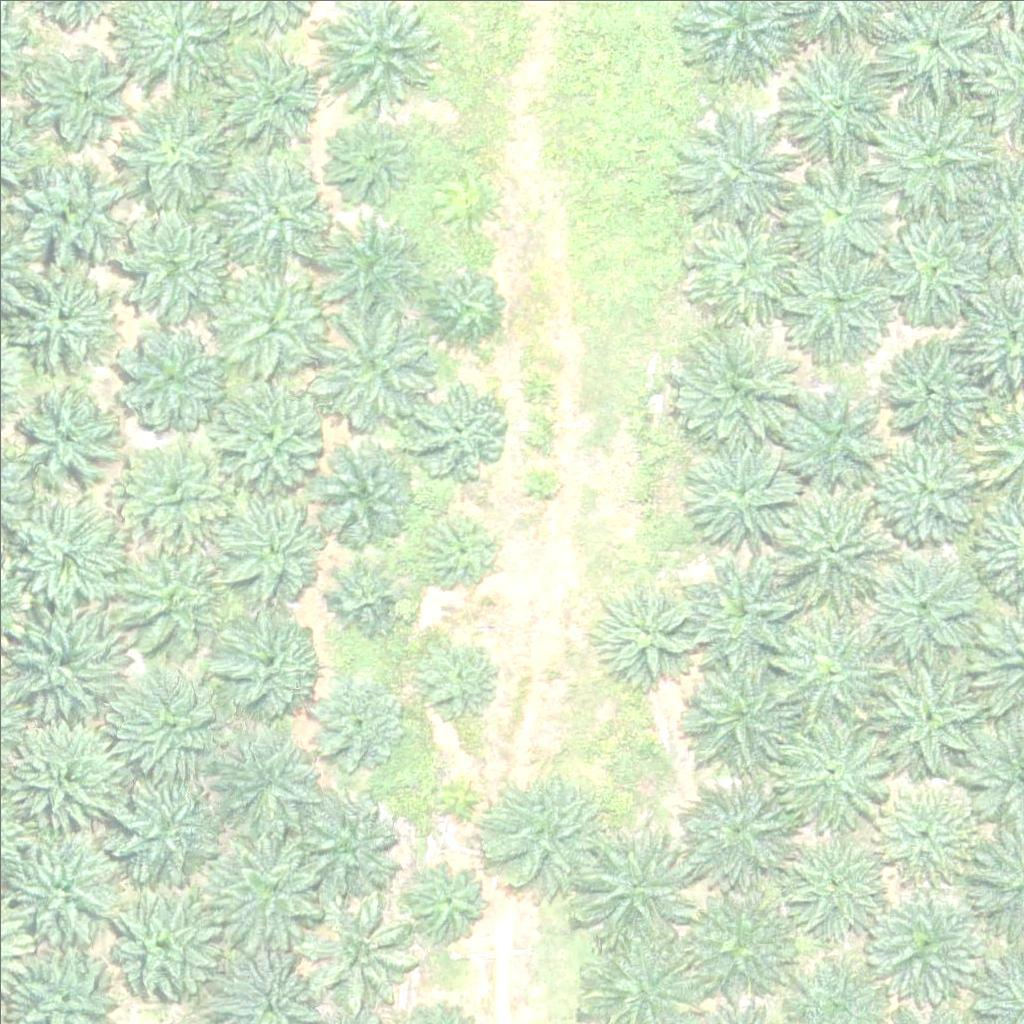Kelapa_Sawit: (669, 875, 794, 1001), (96, 875, 221, 1001), (202, 829, 327, 955), (577, 826, 702, 952), (680, 648, 805, 774), (674, 427, 799, 553), (675, 331, 800, 457), (773, 479, 898, 605), (766, 607, 891, 733), (774, 704, 899, 830), (869, 647, 994, 773), (313, 305, 438, 431), (774, 239, 899, 365), (867, 203, 992, 329), (680, 201, 805, 327), (870, 80, 995, 206), (778, 39, 903, 165), (676, 101, 801, 227), (477, 773, 602, 898), (864, 881, 977, 995), (868, 777, 981, 891), (302, 895, 415, 1008), (116, 542, 229, 655), (122, 436, 235, 549), (210, 375, 323, 488), (220, 491, 333, 604), (210, 607, 323, 720), (205, 725, 318, 838), (589, 572, 702, 685), (779, 374, 892, 487), (865, 548, 978, 661), (867, 434, 980, 547), (112, 325, 225, 438), (4, 255, 117, 368), (117, 210, 230, 323), (117, 97, 230, 210), (19, 159, 132, 272), (9, 715, 121, 829), (5, 826, 117, 940), (684, 557, 796, 671), (12, 377, 124, 490), (12, 501, 124, 614), (5, 603, 117, 716), (113, 769, 225, 882), (114, 668, 226, 781), (286, 786, 398, 899), (684, 773, 796, 886), (777, 830, 889, 943), (213, 259, 325, 372), (312, 208, 424, 321), (217, 152, 329, 265), (305, 669, 405, 770), (313, 438, 413, 539), (885, 345, 985, 446), (221, 43, 321, 144), (33, 43, 133, 144), (409, 376, 509, 476), (787, 157, 887, 257), (412, 630, 500, 718), (414, 502, 502, 590), (402, 854, 490, 942), (325, 119, 412, 207), (428, 266, 503, 342), (326, 560, 401, 635), (429, 781, 467, 819), (522, 461, 559, 499)
